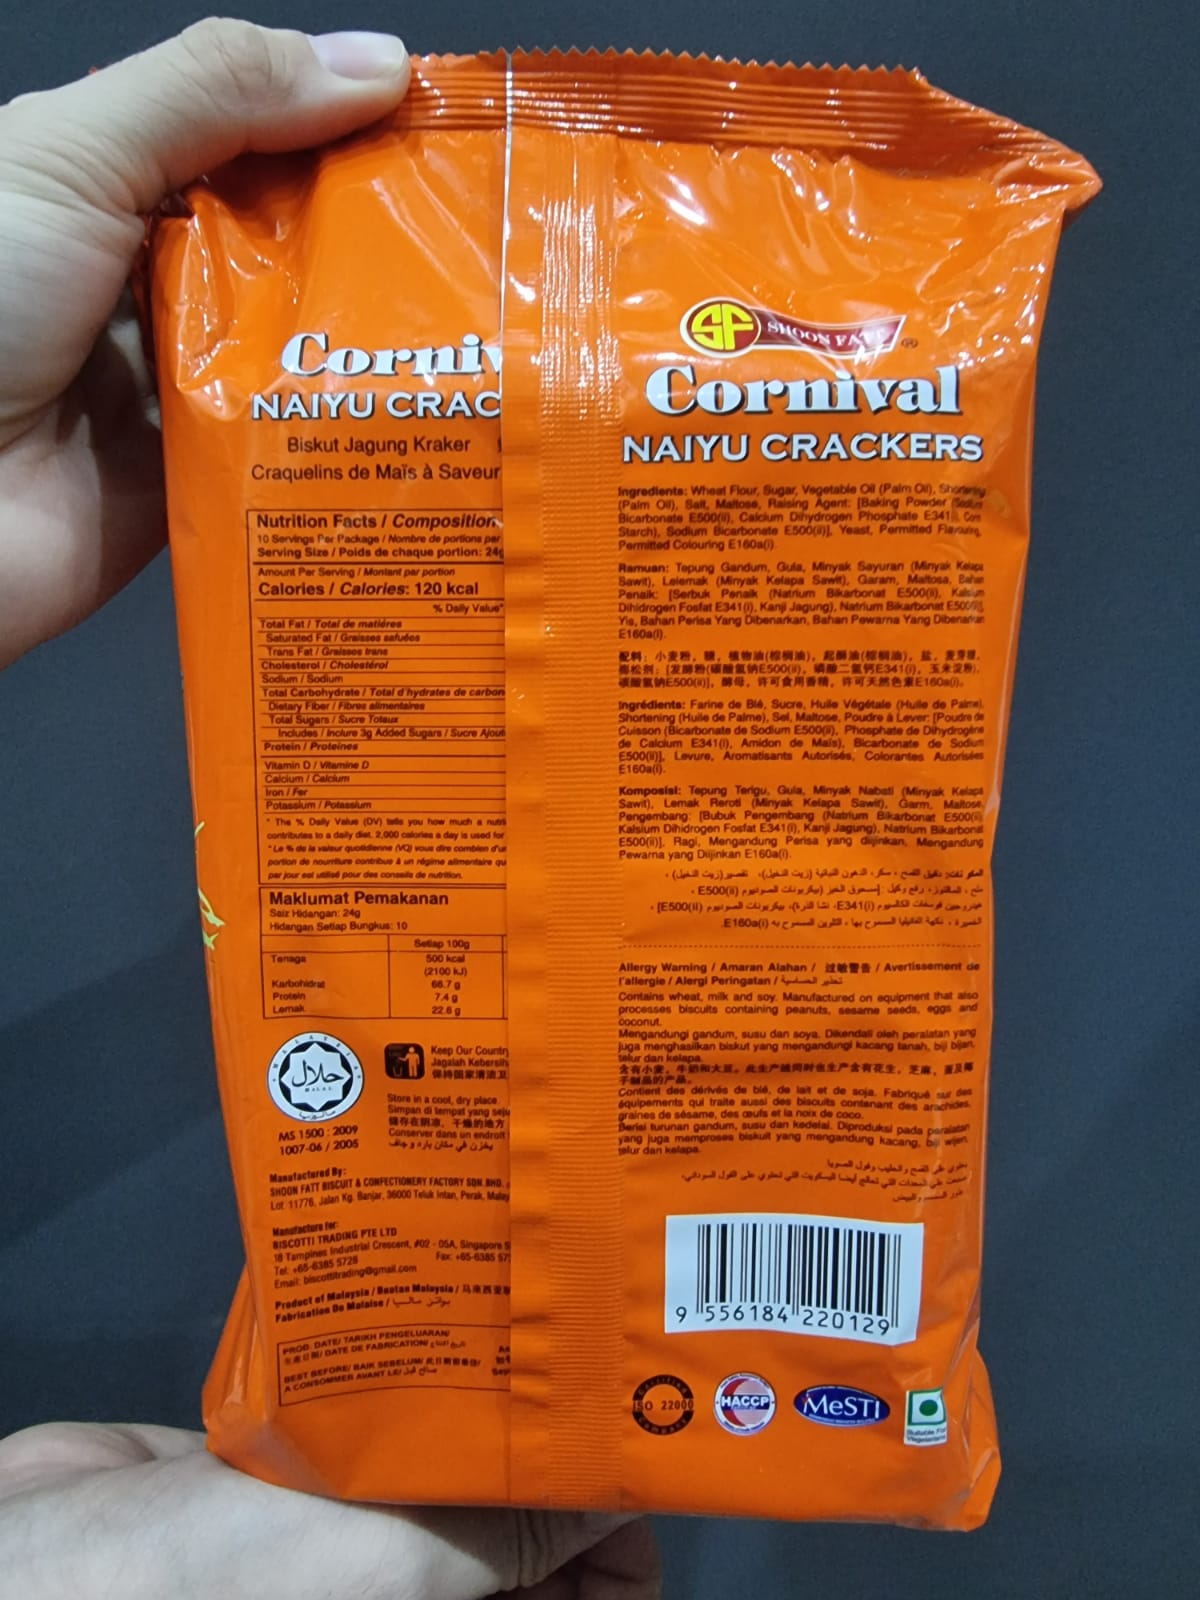Biscuits: (245, 191, 989, 1470)
